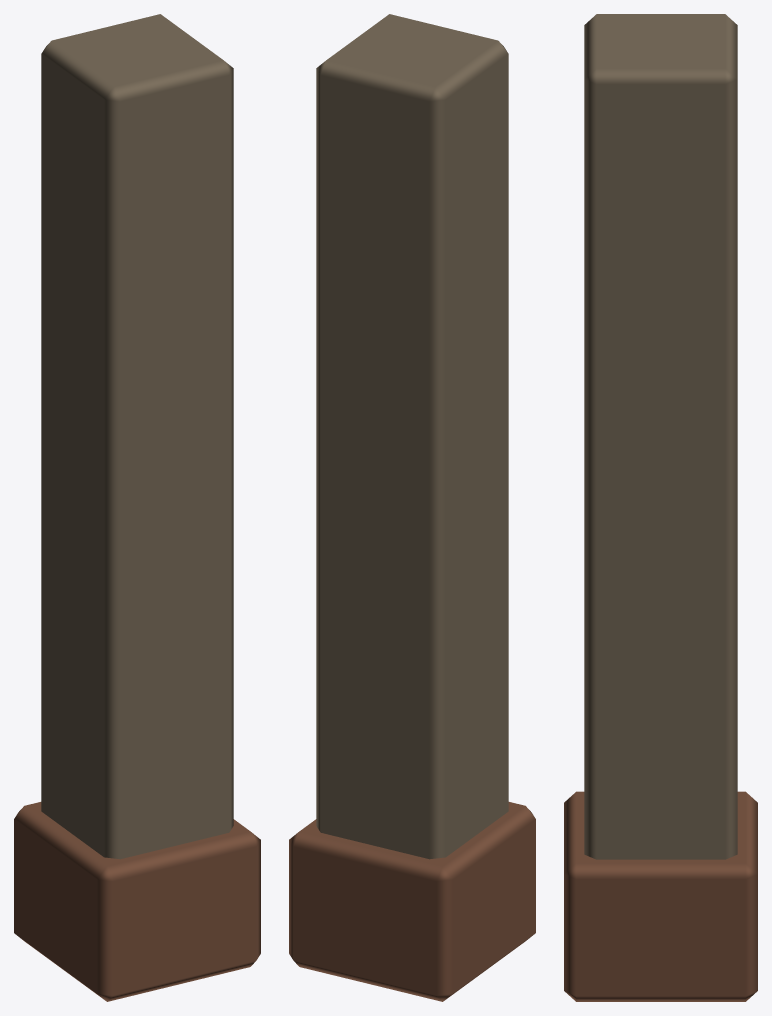
Rendered from ghost-town-post-l.c1c149e8.glb.
The picture shows the model from 3 angles, left to right: view 1: azimuth 30°, elevation 25°; view 2: azimuth 150°, elevation 25°; view 3: azimuth 270°, elevation 25°; orthographic projection. The views are drawn at different scales.
Parts seen in each view (by area): view 1: body; view 2: body; view 3: body.
Part boxes in pixels (left/top/right/bottom): body: left=14, top=14, right=260, bottom=1001; body: left=289, top=14, right=535, bottom=1001; body: left=564, top=14, right=757, bottom=1001.
Bounding box in the file's own units: 0.38 × 2 × 0.38.
